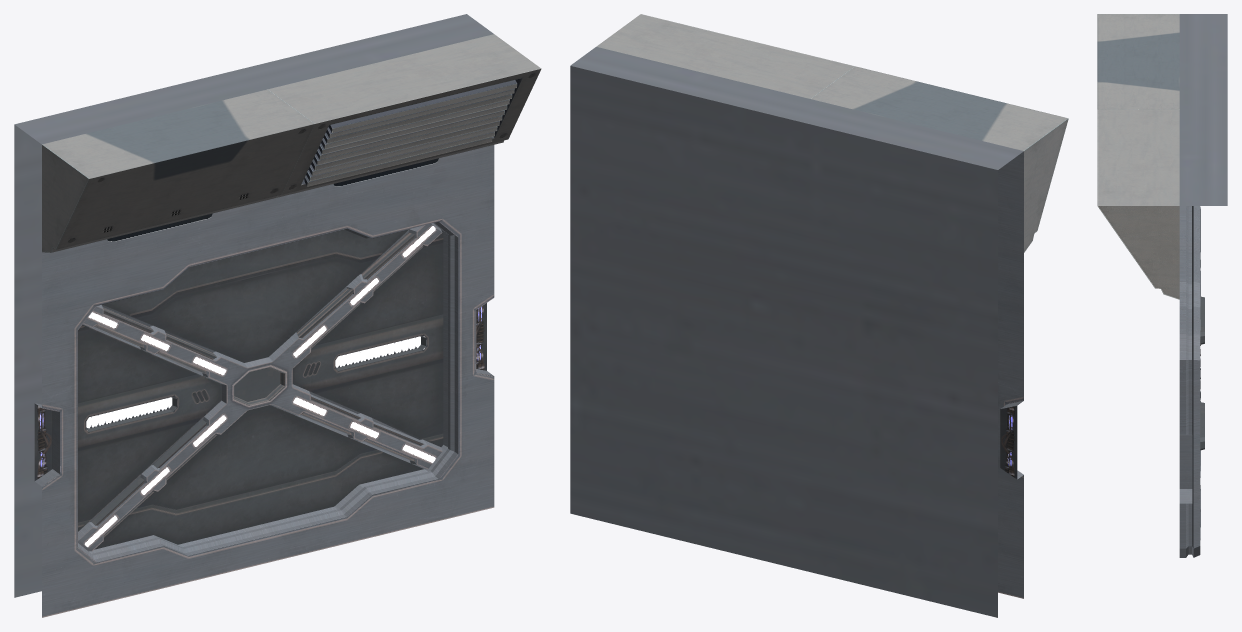
File: DS_SM016_Scifi_Room_Wall4M_01.fbx
The picture shows the model from 3 angles, left to right: view 1: azimuth 30°, elevation 25°; view 2: azimuth 150°, elevation 25°; view 3: azimuth 270°, elevation 25°; orthographic projection. The views are drawn at different scales.
Parts seen in each view (by area): view 1: DS_SM016_Scifi_Room_Wall4M_01; view 2: DS_SM016_Scifi_Room_Wall4M_01; view 3: DS_SM016_Scifi_Room_Wall4M_01.
Boxes of the visible parts, x1,y1,x2,y2 form: DS_SM016_Scifi_Room_Wall4M_01: (14, 14, 541, 617); DS_SM016_Scifi_Room_Wall4M_01: (570, 14, 1068, 617); DS_SM016_Scifi_Room_Wall4M_01: (1097, 14, 1227, 557).
Bounding box in the file's own units: 800 × 800 × 229.
